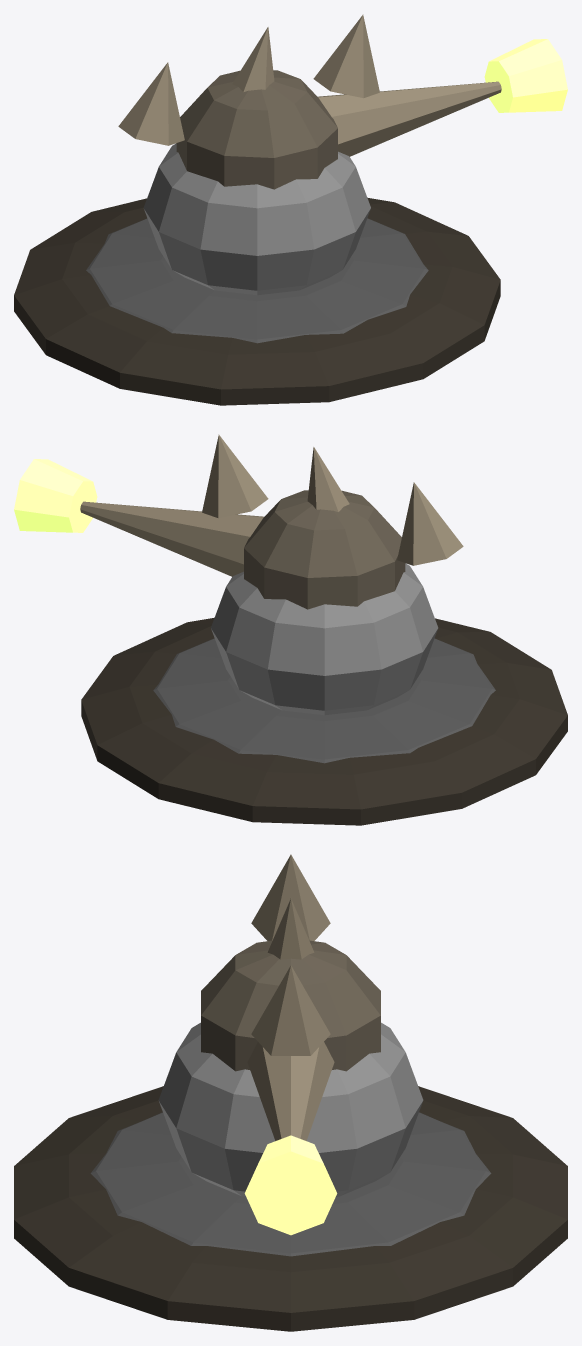
Rendered from bl_thorn.glb.
3 renders of one model, top to bottom at view 1: azimuth 30°, elevation 25°; view 2: azimuth 150°, elevation 25°; view 3: azimuth 270°, elevation 25°, orthographic. The views are drawn at different scales.
Visible parts, largest first — view 1: body, turret; view 2: body, turret; view 3: body, turret.
Part boxes in pixels (x1,y1,x2,y2): body: (14,143,500,405); turret: (118,14,567,189); body: (81,563,567,825); turret: (14,434,463,609); body: (14,1022,567,1331); turret: (201,854,380,1235).
Bounding box in the file's own units: 32.61 × 18.8 × 26.77.
